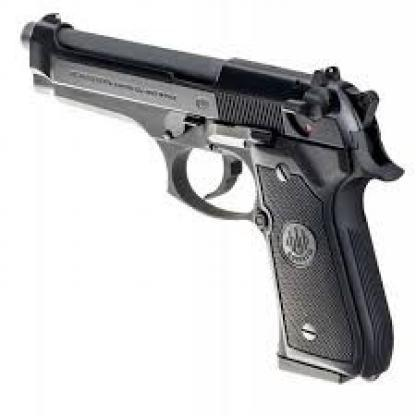Pistol: (17, 9, 404, 382)
